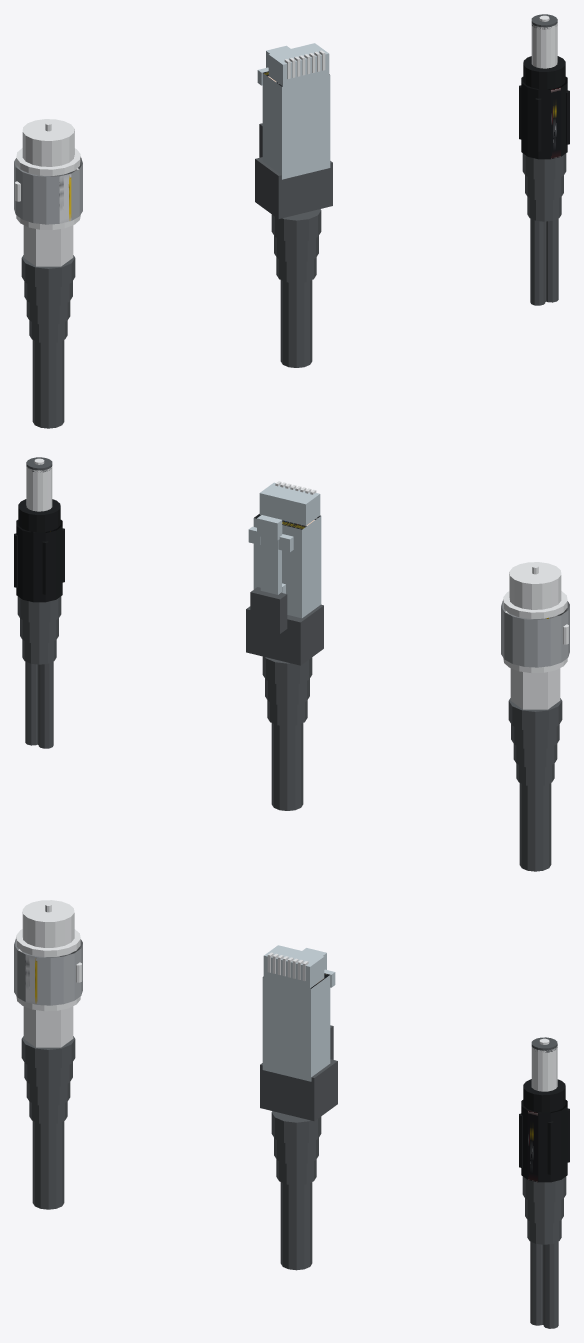
File: SEC_Cable_Connector_Set.fbx
3 views of the same model, one above another, from view 1: azimuth 30°, elevation 25°; view 2: azimuth 150°, elevation 25°; view 3: azimuth 330°, elevation 25° (orthographic).
Parts seen in each view (by area): view 1: Connector_RJ45, Connector_BNC, Connector_Power; view 2: Connector_RJ45, Connector_BNC, Connector_Power; view 3: Connector_RJ45, Connector_BNC, Connector_Power.
Part boxes in pixels (x1,y1,x2,y2): Connector_RJ45: [255, 43, 332, 367]; Connector_BNC: [14, 119, 82, 428]; Connector_Power: [519, 14, 569, 305]; Connector_RJ45: [246, 481, 323, 810]; Connector_BNC: [501, 562, 569, 871]; Connector_Power: [14, 457, 64, 748]; Connector_RJ45: [260, 945, 337, 1270]; Connector_BNC: [14, 900, 82, 1209]; Connector_Power: [519, 1037, 569, 1328].
Size of the model in its own units: 13.29 by 7.2 by 1.64.
3 materials, 1 textured.
